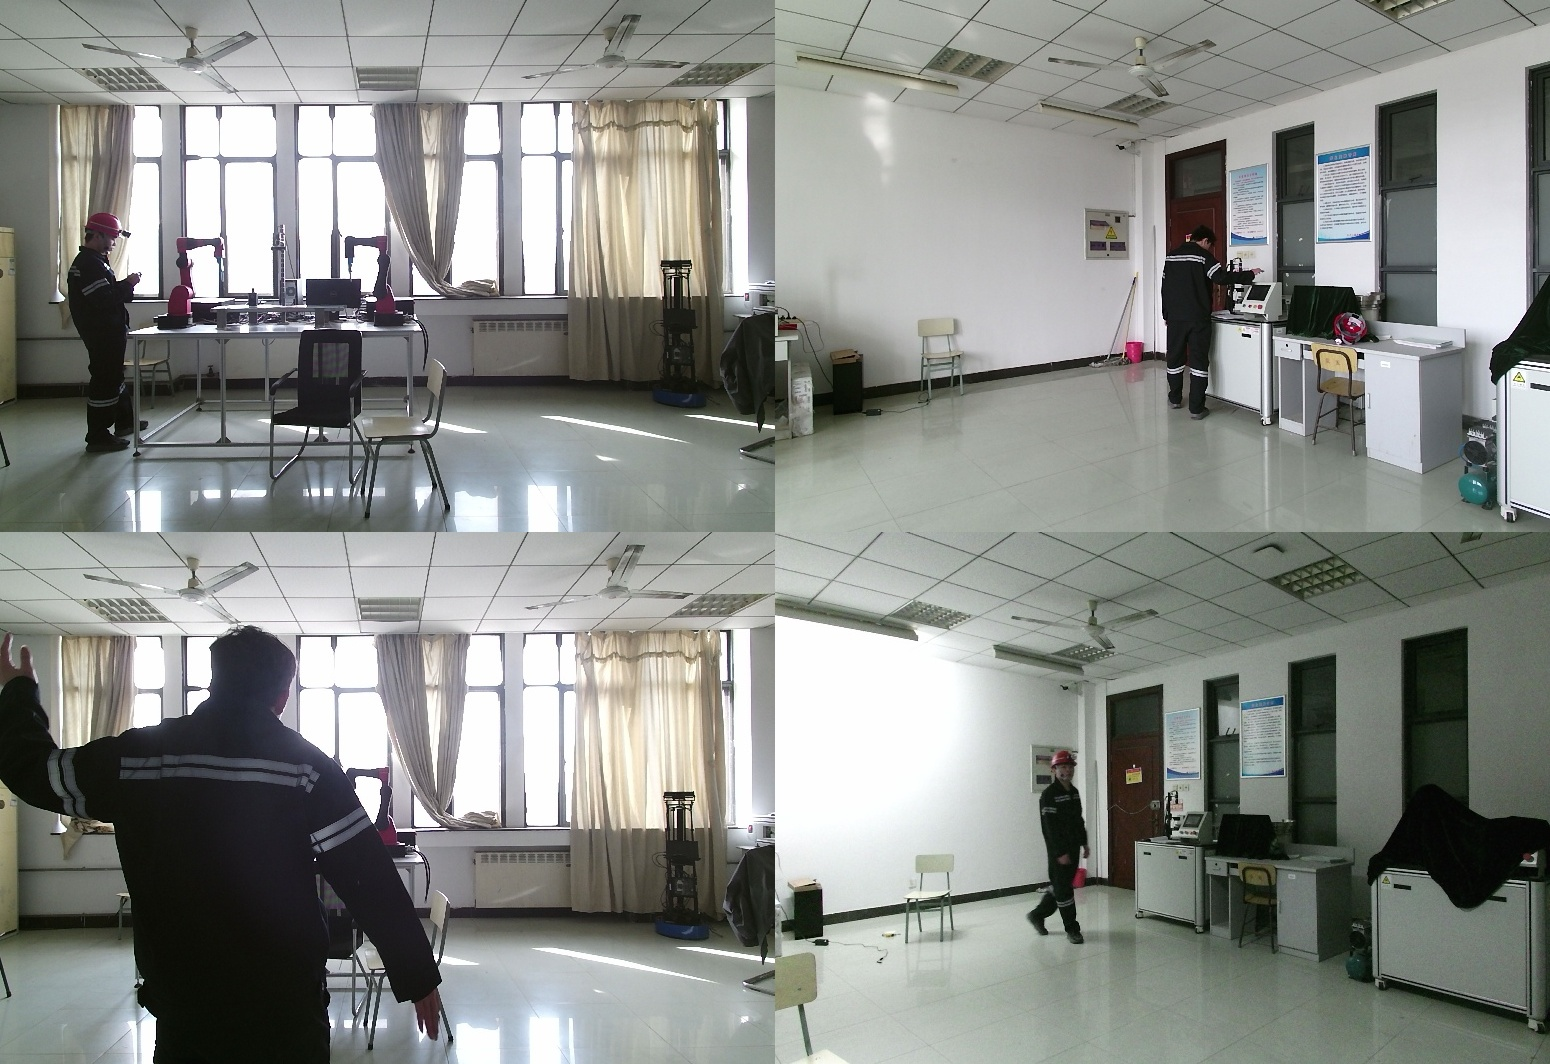person: (1, 629, 451, 1064), (1161, 231, 1275, 420), (66, 213, 142, 453), (1021, 752, 1087, 958)
